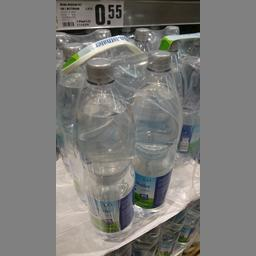water: (72, 56, 135, 242), (130, 50, 180, 214)
